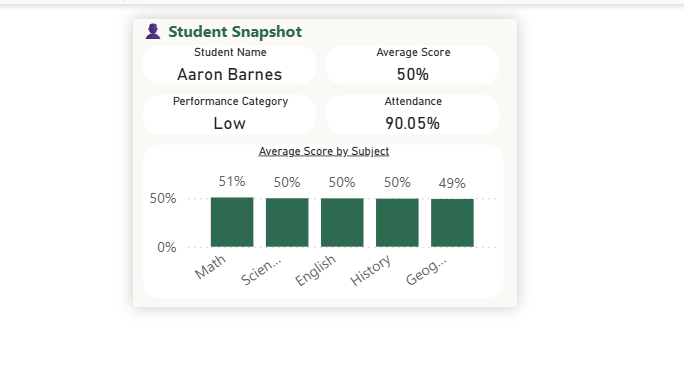

What the dashboard file says about the page in this screenshot:
{"tool":"powerbi","page":{"name":"Student Tooltip","canvas":[320,240],"ordinal":3},"visuals":[{"type":"textbox","box":[7,0,306,21],"z":0},{"type":"card","title":"Student Name","fields":{"Values":["Min(Students.Name)"]},"box":[7,21,146,34],"z":1},{"type":"card","title":"Attendance","fields":{"Values":["Measure.Attendance"]},"box":[160,62,146,34],"z":2},{"type":"card","title":"Performance Category","fields":{"Values":["Measure.Performance Category"]},"box":[7,62,146,34],"z":3},{"type":"card","title":"Average Score","fields":{"Values":["Measure.Average Score"]},"box":[160,21,146,34],"z":4},{"type":"clusteredColumnChart","fields":{"Category":["Scores.Subject"],"Y":["Measure.Average Score"]},"box":[7,104,302,129],"z":5}]}

Visuals, with their boxes on the page's 320x240 design canvas (x1, y1, x2, y2). These are canvas units, not pixel positions in the 684x381 screenshot, which may show the page scaled, cropped or inside an application window:
textbox: {"left": 7, "top": 0, "right": 313, "bottom": 21}
"Student Name" card: {"left": 7, "top": 21, "right": 153, "bottom": 55}
"Attendance" card: {"left": 160, "top": 62, "right": 306, "bottom": 96}
"Performance Category" card: {"left": 7, "top": 62, "right": 153, "bottom": 96}
"Average Score" card: {"left": 160, "top": 21, "right": 306, "bottom": 55}
clusteredColumnChart - Scores.Subject x Measure.Average Score: {"left": 7, "top": 104, "right": 309, "bottom": 233}
